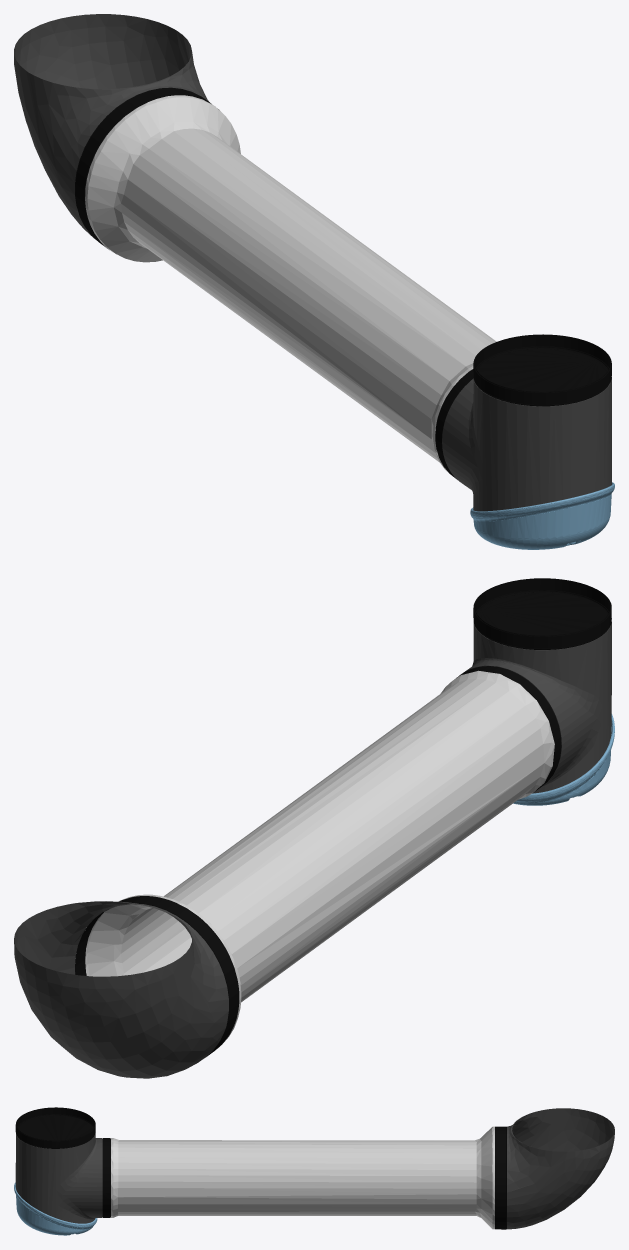
The model's file is forearm_from_dae.obj.
3 views of the same model, one above another, from view 1: azimuth 30°, elevation 25°; view 2: azimuth 150°, elevation 25°; view 3: azimuth 270°, elevation 25° (orthographic). The views are drawn at different scales.
Parts seen in each view (by area): view 1: eSeries_UR10e_031-mesh, eSeries_UR10e_054-mesh, eSeries_UR10e_057-mesh, eSeries_UR10e_059-mesh, eSeries_UR10e_056-mesh, eSeries_UR10e_055-mesh, eSeries_UR10e_058-mesh; view 2: eSeries_UR10e_031-mesh, eSeries_UR10e_054-mesh, eSeries_UR10e_057-mesh, eSeries_UR10e_059-mesh, eSeries_UR10e_055-mesh, eSeries_UR10e_056-mesh, eSeries_UR10e_058-mesh; view 3: eSeries_UR10e_031-mesh, eSeries_UR10e_054-mesh, eSeries_UR10e_057-mesh, eSeries_UR10e_059-mesh, eSeries_UR10e_056-mesh, eSeries_UR10e_055-mesh, eSeries_UR10e_058-mesh.
Part boxes in pixels (x1,y1,x2,y2): eSeries_UR10e_031-mesh: (85,95,496,474); eSeries_UR10e_054-mesh: (14,14,209,240); eSeries_UR10e_057-mesh: (442,378,611,511); eSeries_UR10e_059-mesh: (473,334,611,406); eSeries_UR10e_056-mesh: (470,482,614,549); eSeries_UR10e_055-mesh: (75,87,218,249); eSeries_UR10e_058-mesh: (435,369,473,479); eSeries_UR10e_031-mesh: (85,670,554,1047); eSeries_UR10e_054-mesh: (14,901,228,1078); eSeries_UR10e_057-mesh: (459,622,611,793); eSeries_UR10e_059-mesh: (473,578,611,649); eSeries_UR10e_055-mesh: (75,896,239,1056); eSeries_UR10e_056-mesh: (513,714,614,805); eSeries_UR10e_058-mesh: (456,666,561,791); eSeries_UR10e_031-mesh: (111,1126,494,1229); eSeries_UR10e_054-mesh: (507,1108,614,1229); eSeries_UR10e_057-mesh: (15,1133,102,1223); eSeries_UR10e_059-mesh: (15,1107,95,1148); eSeries_UR10e_056-mesh: (14,1182,97,1235); eSeries_UR10e_055-mesh: (495,1126,506,1229); eSeries_UR10e_058-mesh: (102,1138,110,1217).
Size of the model in its own units: 0.116 by 0.1249 by 0.6764.
